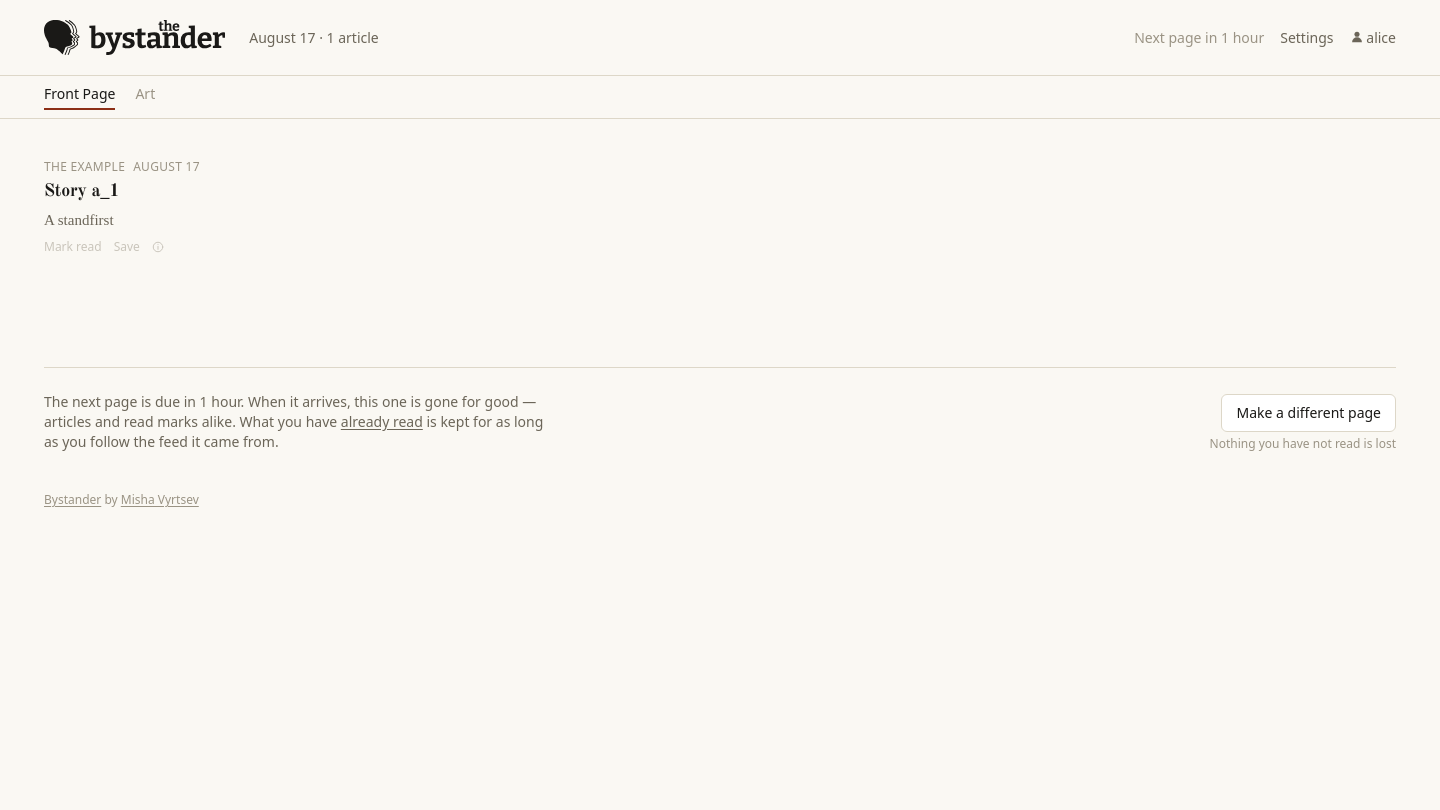
ReaderPage composing › leaves the last page's refusal behind when you move to another tab
The width and height of the screenshot is (1440, 810).
What coordinates should you click on to do the following:
click the button "Make a different page"
I would click on:
 (1309, 413)
Its box is [1222, 394, 1396, 432].
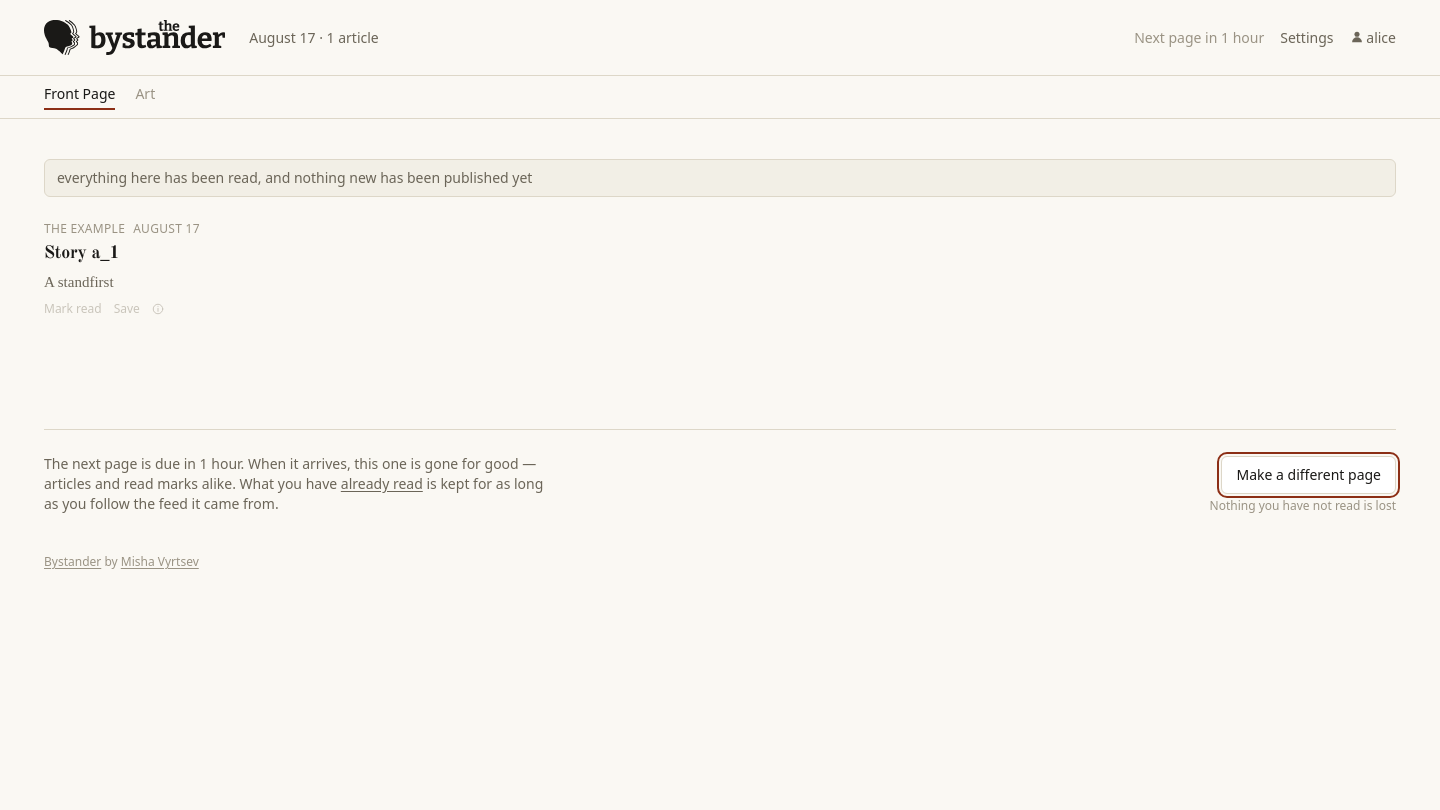
Now the text "everything here has been read" is shown, box [57, 168, 532, 187]
What coordinates should you click on to do the following:
click the link "Art"
I would click on:
 (145, 97)
Its box is [135, 84, 155, 110].
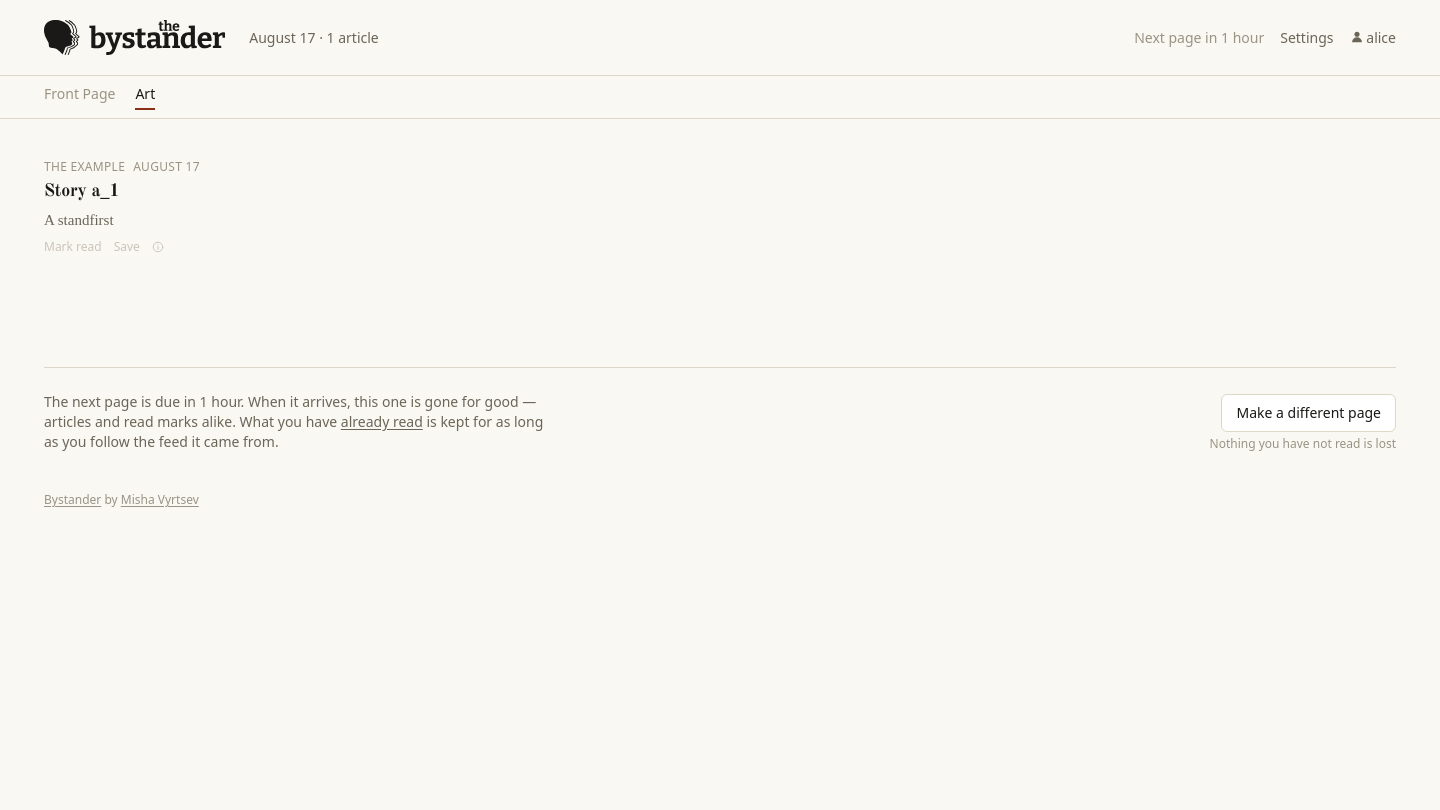
Now the text "everything here has been read" is gone
